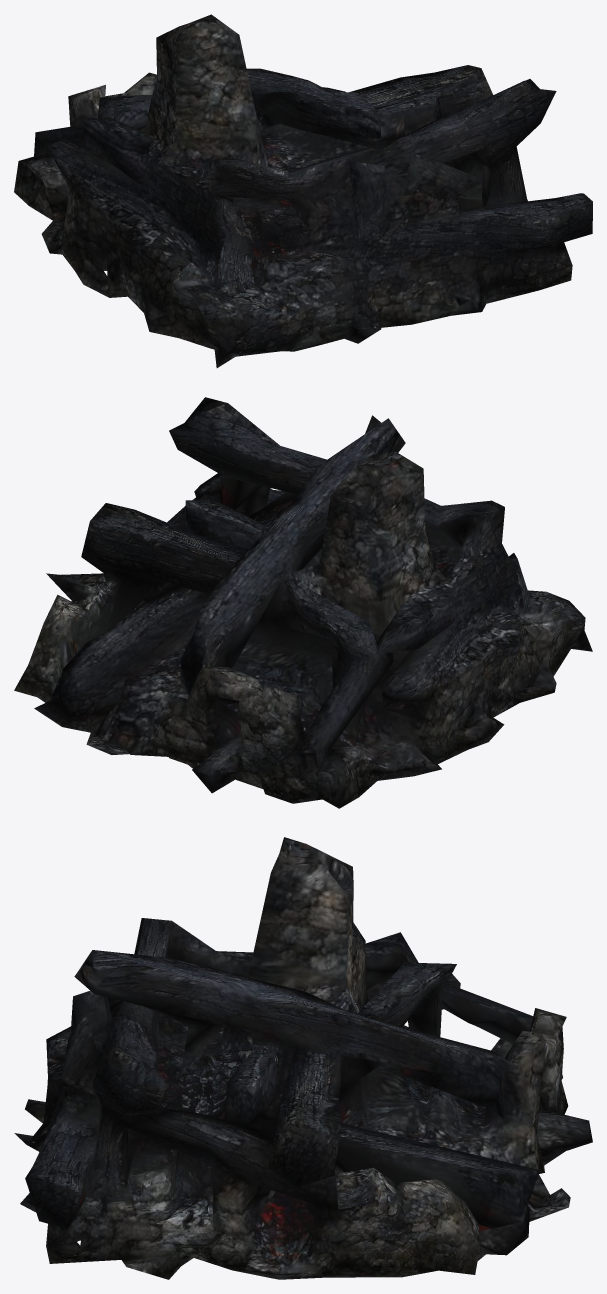
Rendered from wreck2.glb.
The picture shows the model from 3 angles, top to bottom: view 1: azimuth 30°, elevation 25°; view 2: azimuth 150°, elevation 25°; view 3: azimuth 270°, elevation 25°; orthographic projection. The views are drawn at different scales.
Visible parts, largest first — view 1: tripo_node_1d879e23-e31c-4a34-8937-ba50e6d53a34; view 2: tripo_node_1d879e23-e31c-4a34-8937-ba50e6d53a34; view 3: tripo_node_1d879e23-e31c-4a34-8937-ba50e6d53a34.
Boxes of the visible parts, <box> form: tripo_node_1d879e23-e31c-4a34-8937-ba50e6d53a34: <box>14,14,592,367</box>; tripo_node_1d879e23-e31c-4a34-8937-ba50e6d53a34: <box>14,397,592,808</box>; tripo_node_1d879e23-e31c-4a34-8937-ba50e6d53a34: <box>14,837,592,1279</box>.
Size of the model in its own units: 0.9302 by 0.5373 by 1.
1 material, 1 textured.
